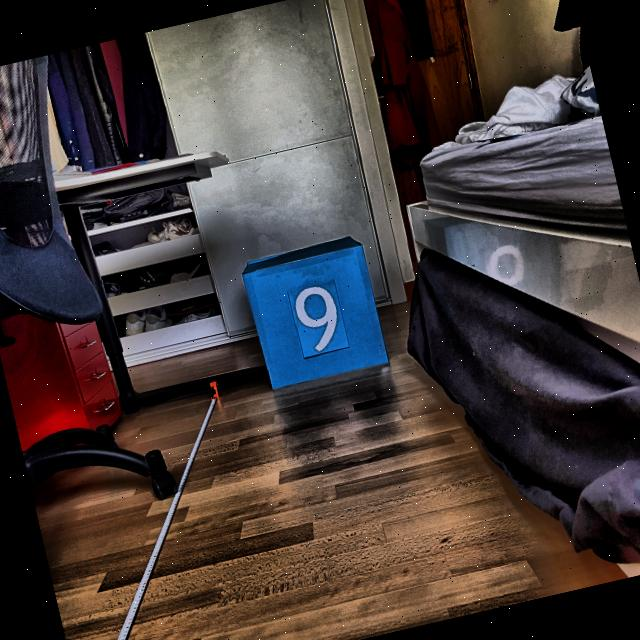blue box: (238, 228, 394, 393)
nine: (291, 280, 346, 354)
